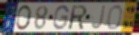8: (33, 4, 49, 31)
G: (52, 5, 70, 31)
J: (90, 4, 106, 31)
O: (14, 4, 32, 32), (106, 4, 124, 31)
R: (68, 4, 88, 31)
